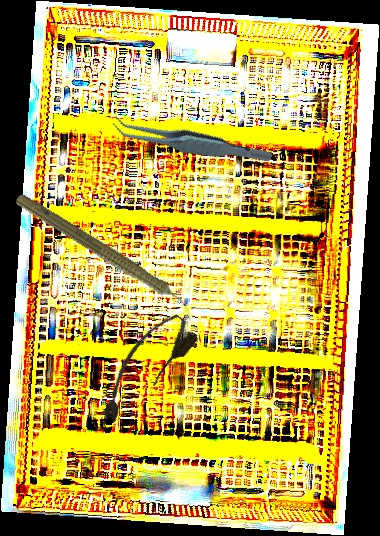Cannula: (84, 306, 202, 431)
Handpiece: (9, 189, 204, 323)
Tissue Forceps: (109, 88, 274, 195)
